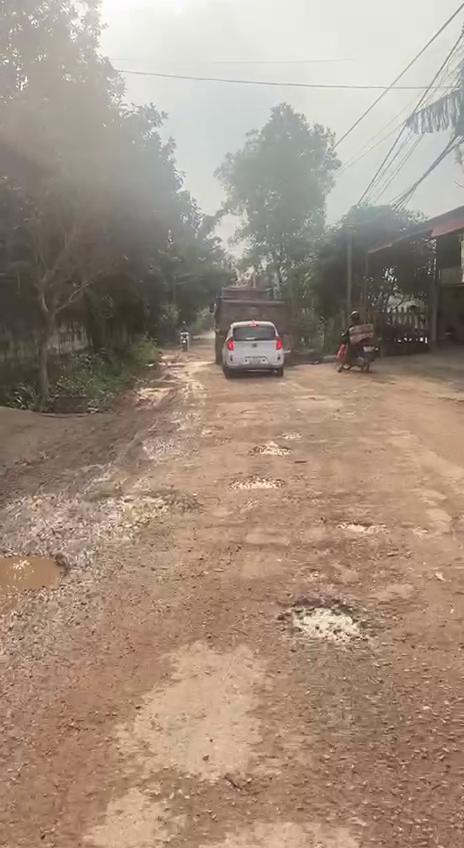pothole: (275, 592, 370, 650), (0, 548, 74, 622), (98, 492, 173, 550), (226, 472, 284, 491), (336, 517, 380, 537), (249, 442, 292, 457)
